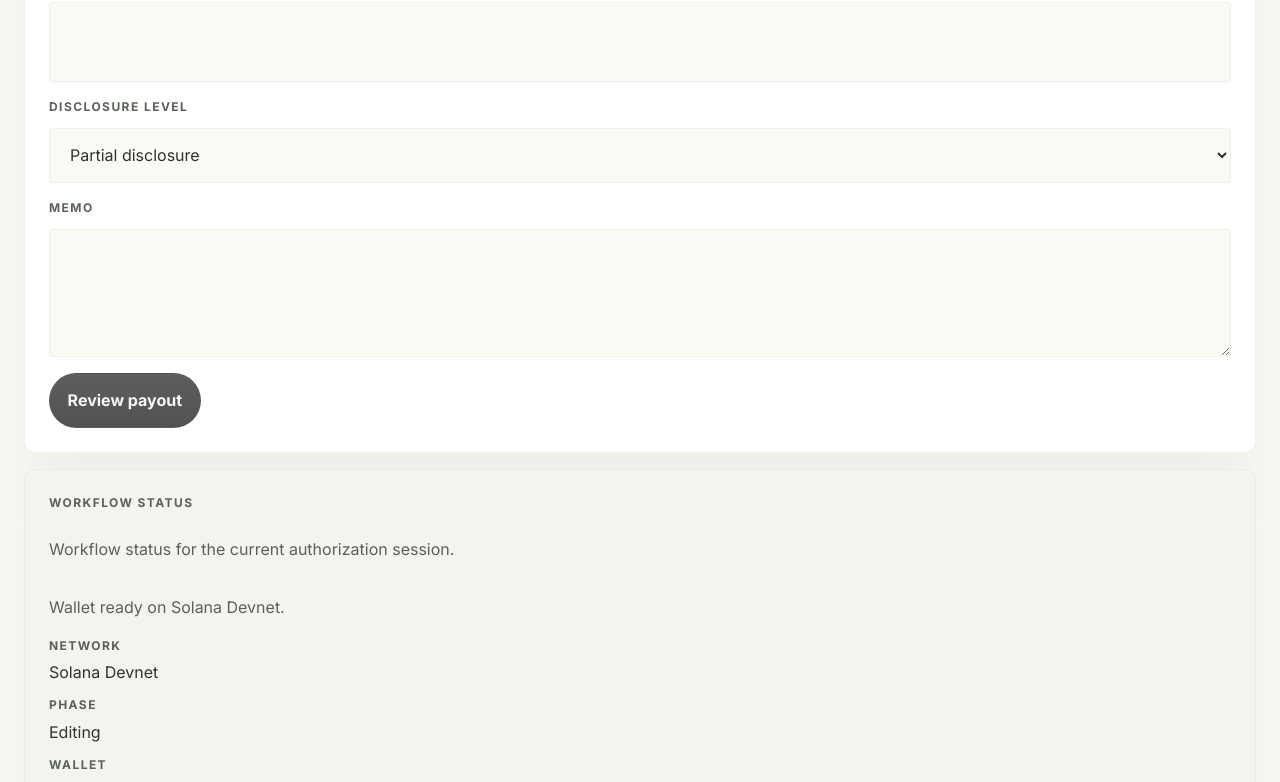
Test: CreatePayoutPage › shows validation errors and stays on the form when required fields are missing
(page scrolled)
Click the button "Review payout": x=125, y=400 top-left (49, 373), bottom-right (201, 428)
(page scrolled)
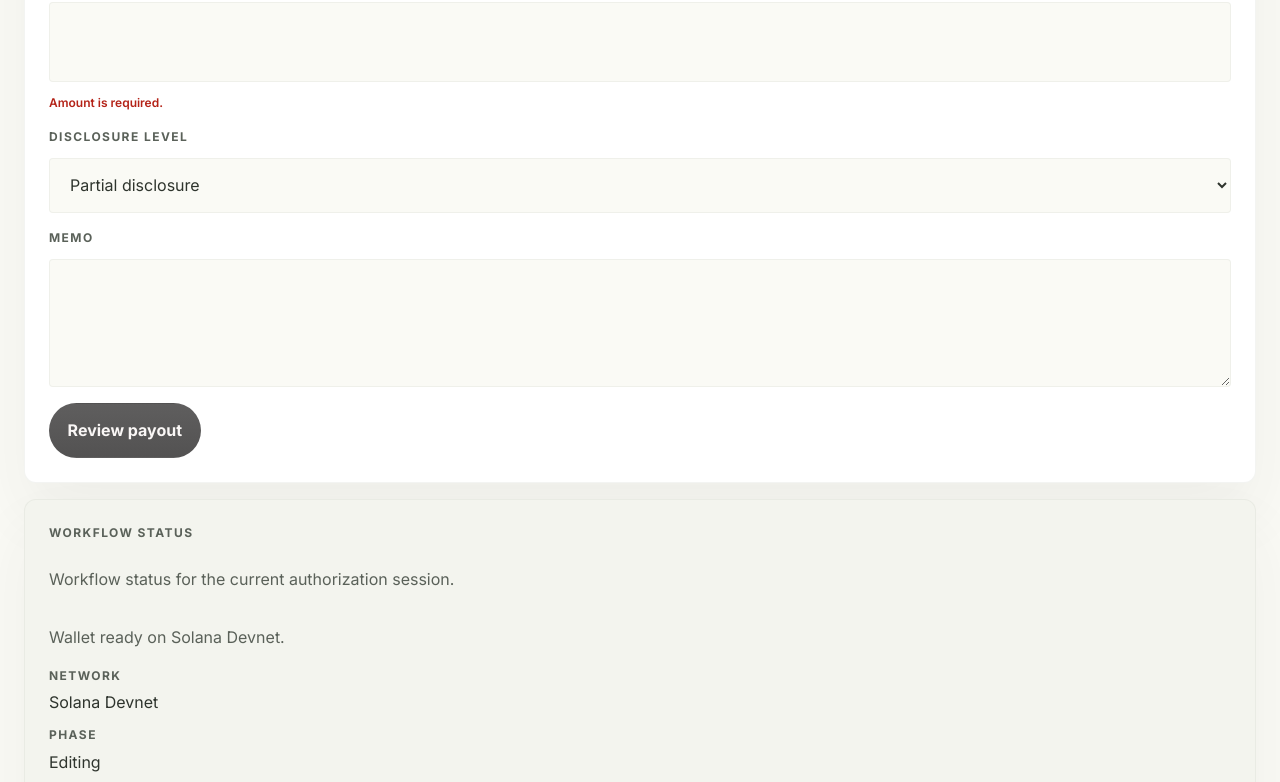
Expected: the text "Amount is required." is shown, top-left (49, 95), bottom-right (163, 110)
